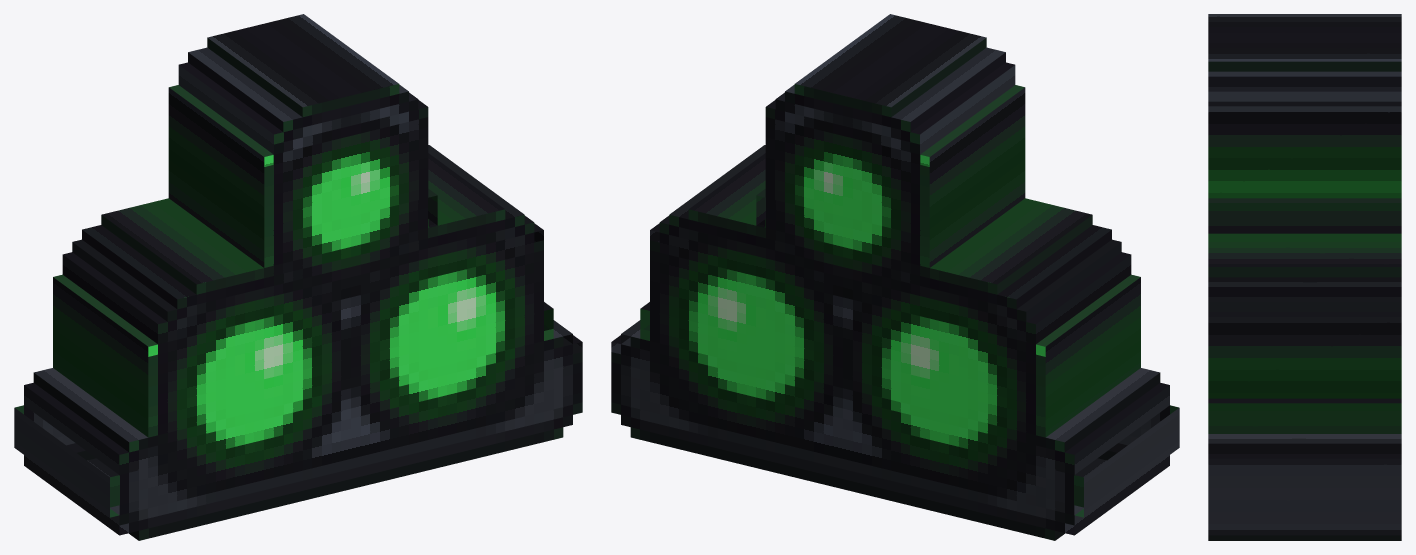
The model's file is goggles.obj.
3 views of the same model, side by side, from view 1: azimuth 30°, elevation 25°; view 2: azimuth 150°, elevation 25°; view 3: azimuth 270°, elevation 25° (orthographic).
Size of the model in its own units: 0.2282 by 0.1816 by 0.0798.
